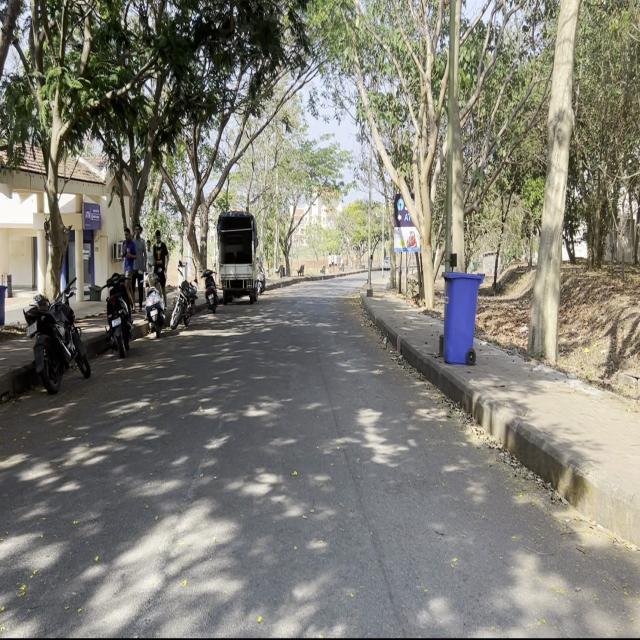Object: (22, 274, 92, 393), (214, 214, 262, 306), (106, 276, 130, 354), (171, 264, 196, 337), (140, 264, 164, 336)
Road: (5, 278, 566, 630)
